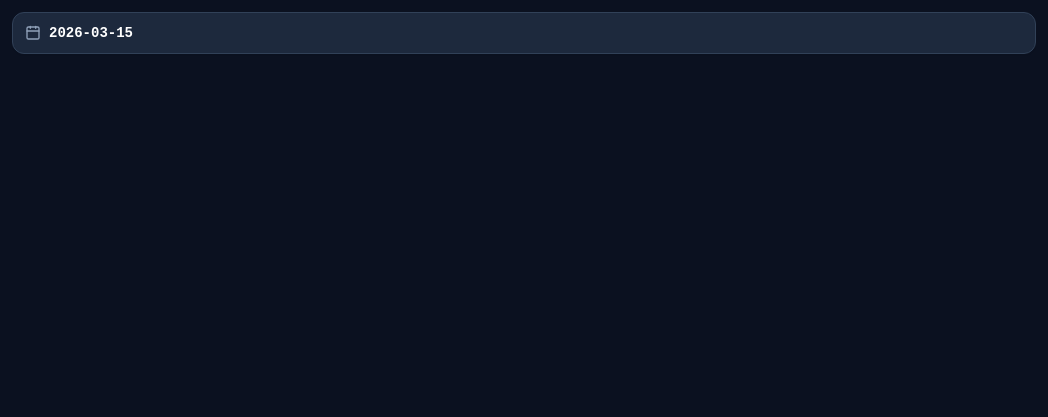
NavDatePicker Hierarchical Calendar Zoom-Out (Slice 29) › zooms out to month selection grid when clicking the header, and selecting a month returns to days view
Click the button "2026-03-15" at (91, 33), box [12,12,1036,54]
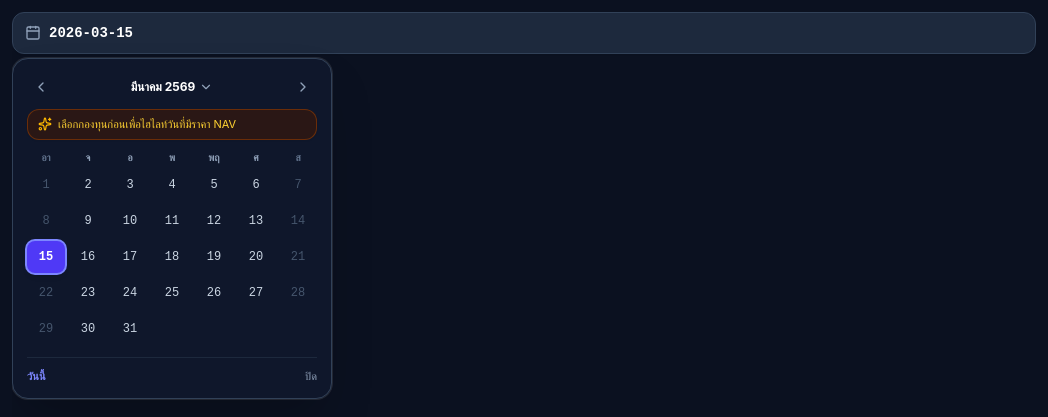
expect the button "มีนาคม 2569" is shown: met
Click the button "มีนาคม 2569" at (172, 87), box [121,75,223,99]
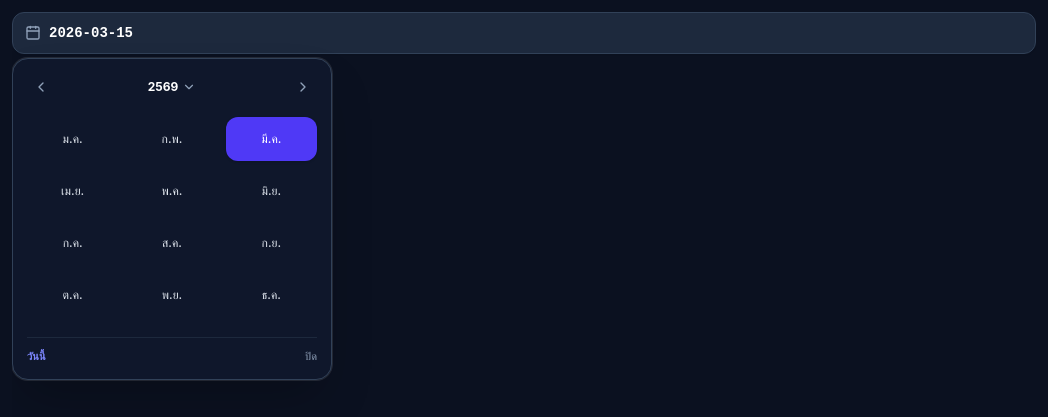
expect the button "ธ.ค." is shown: met
Selecting December should return to days view for December
Click the button "ธ.ค." at (271, 295), box [226,273,317,317]
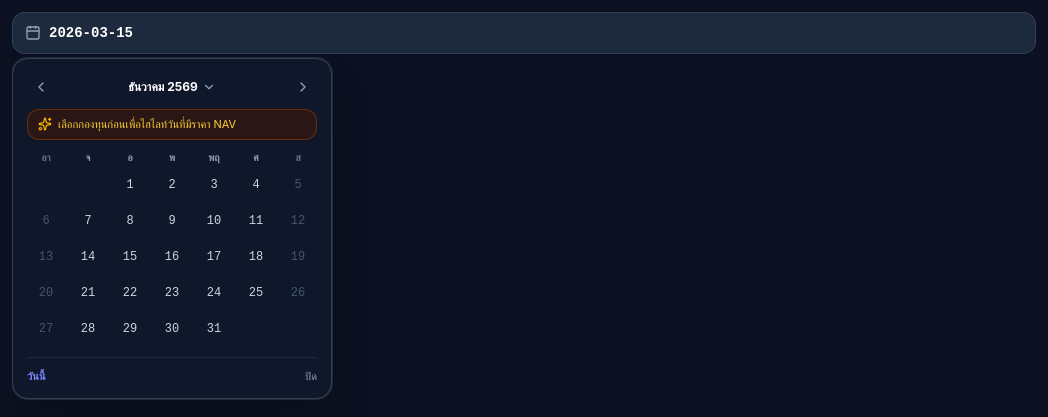
expect the text "ธันวาคม 2569" is shown: met, box [128,79,198,95]
